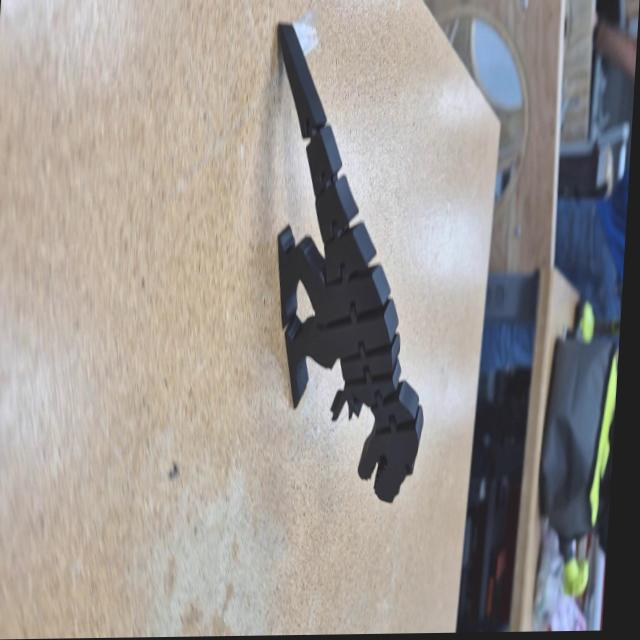dino: (248, 18, 447, 506)
